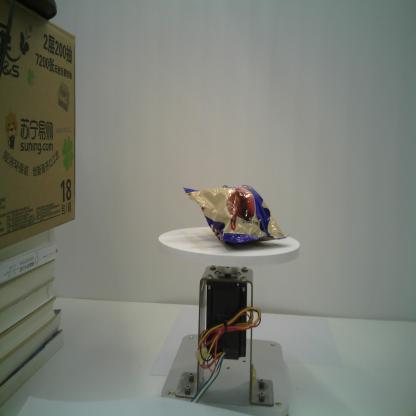Dessert: (182, 184, 291, 247)
